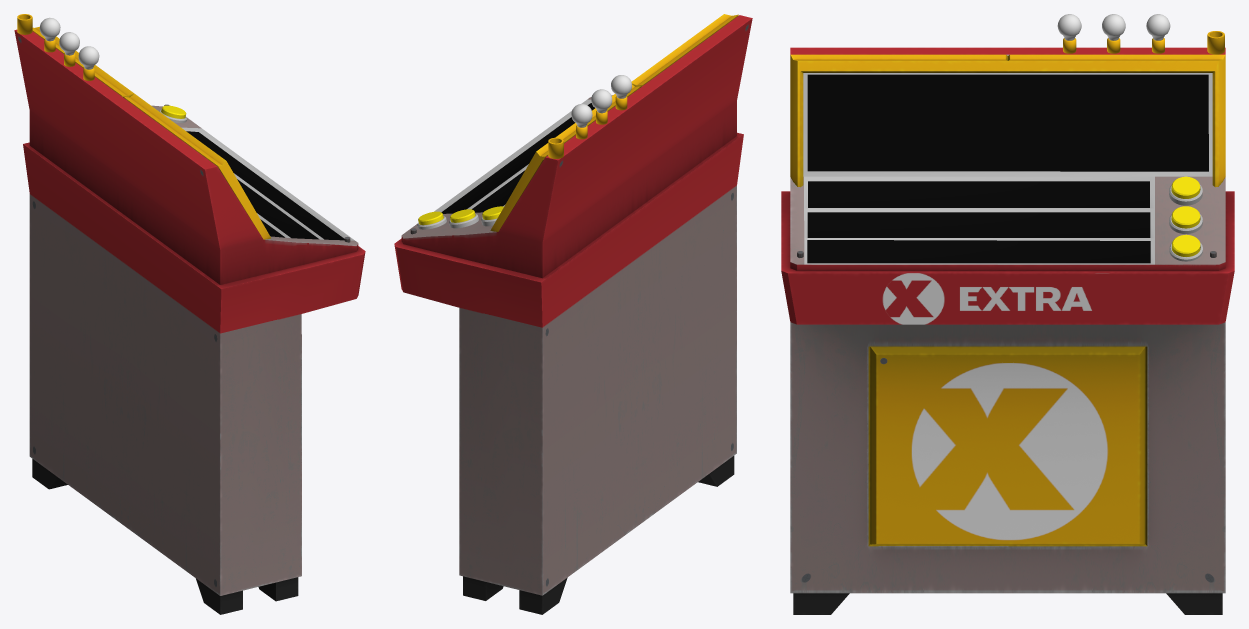
Rendered from ExtraQuizmachine 1.fbx.
3 views of the same model, side by side, from view 1: azimuth 30°, elevation 25°; view 2: azimuth 150°, elevation 25°; view 3: azimuth 270°, elevation 25° (orthographic). The views are drawn at different scales.
Visible parts, largest first — view 1: ControlPanel; view 2: ControlPanel; view 3: ControlPanel.
Part boxes in pixels (x1=…): ControlPanel: x1=14, y1=14, x2=365, y2=614; ControlPanel: x1=394, y1=14, x2=752, y2=614; ControlPanel: x1=781, y1=31, x2=1234, y2=614.
Size of the model in its own units: 49.22 by 140 by 104.
